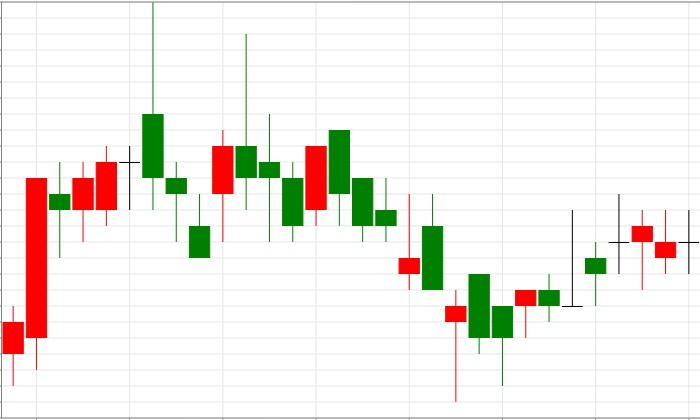hammer_rise: (328, 130, 467, 402)
three_black_crows_fall: (2, 3, 211, 385)
